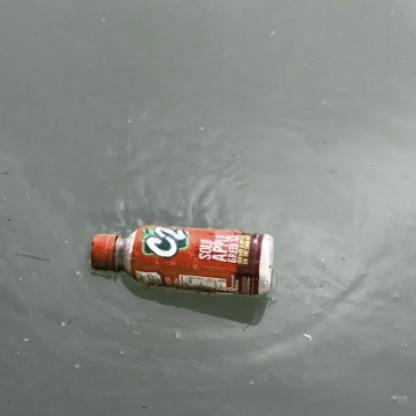Plastic: (87, 222, 276, 298)
